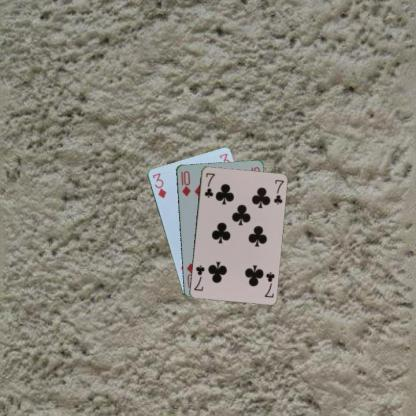10d: (178, 168, 192, 197)
3d: (150, 170, 167, 199)
7c: (262, 269, 276, 299), (202, 170, 216, 199)
